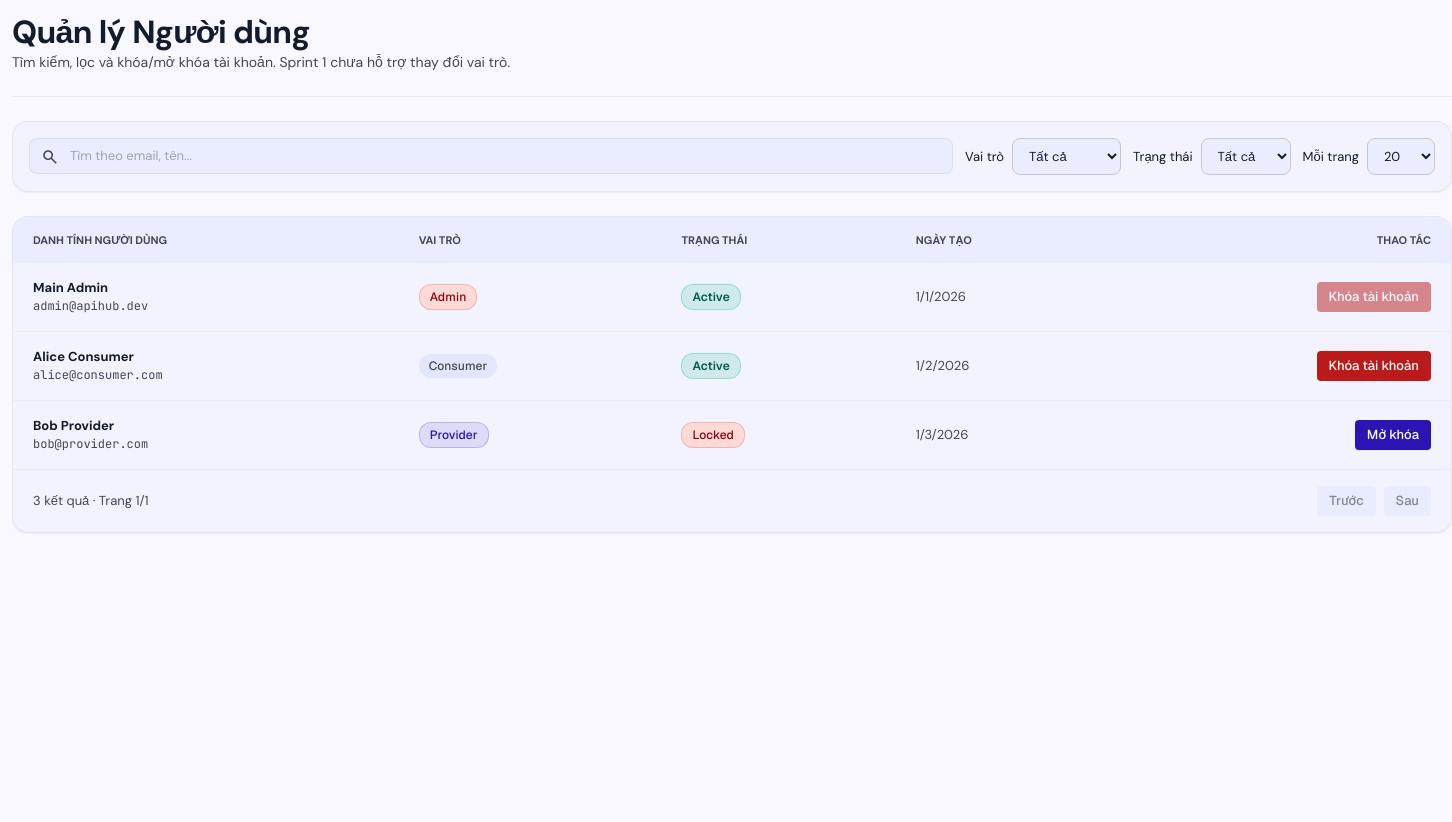
Test: UserManagementPage unit tests › Issue 5: kết quả tìm kiếm cũ không được ghi đè kết quả tìm kiếm mới (controlled promise race)
This screenshot has width=1452, height=822.
expect the text "Alice Consumer" is shown: met, box [33,348,134,365]
// Kích hoạt tìm kiếm 1 (slow)
Type "slow" into the field with placeholder "Tìm theo email, tên...". click: point(491, 156)
box: [29,138,953,174]
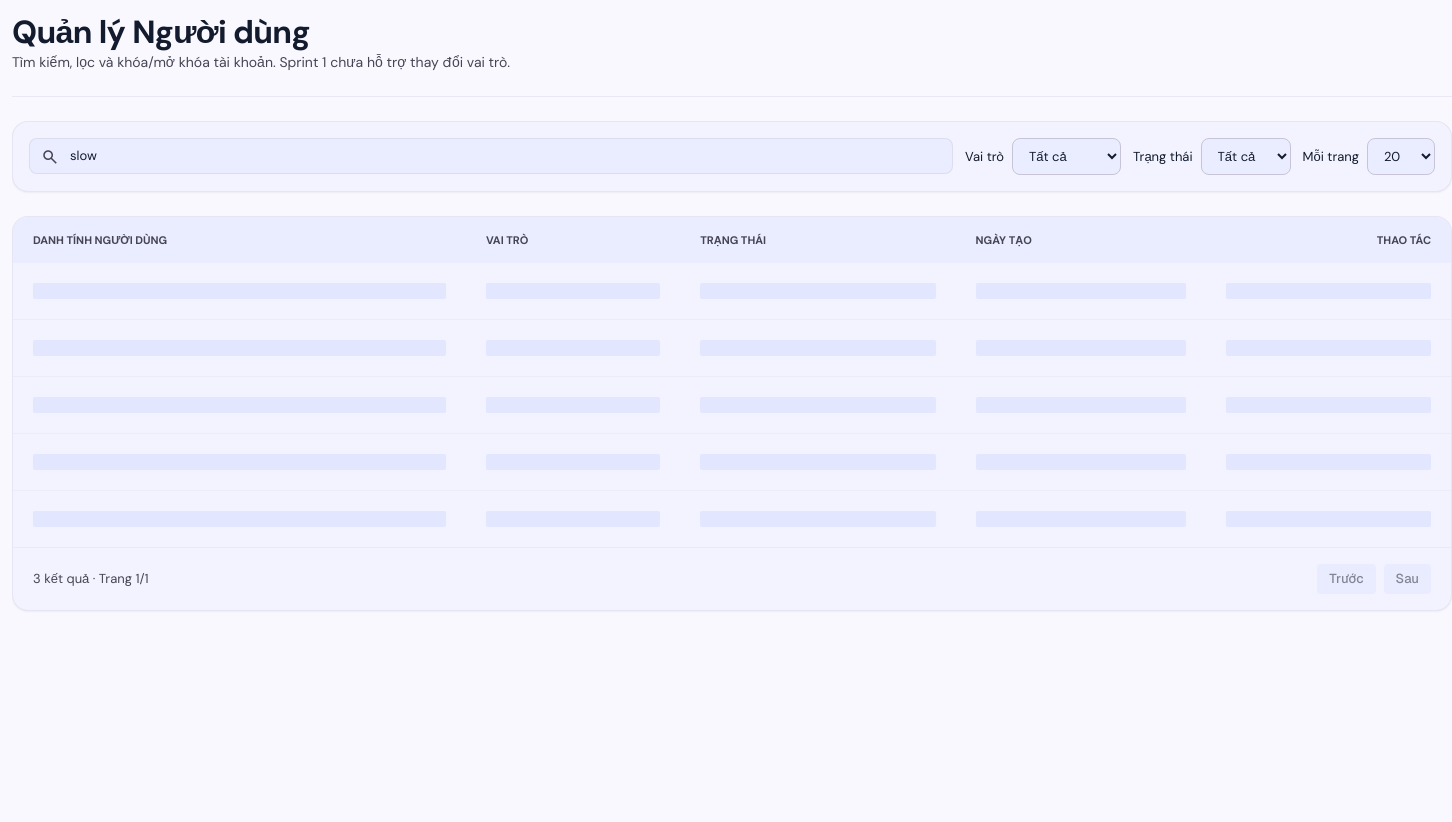
// Kích hoạt tìm kiếm 2 (fast)
Replace the text in the field with placeholder "Tìm theo email, tên..." with "fast". click: point(491, 156)
box: [29,138,953,174]
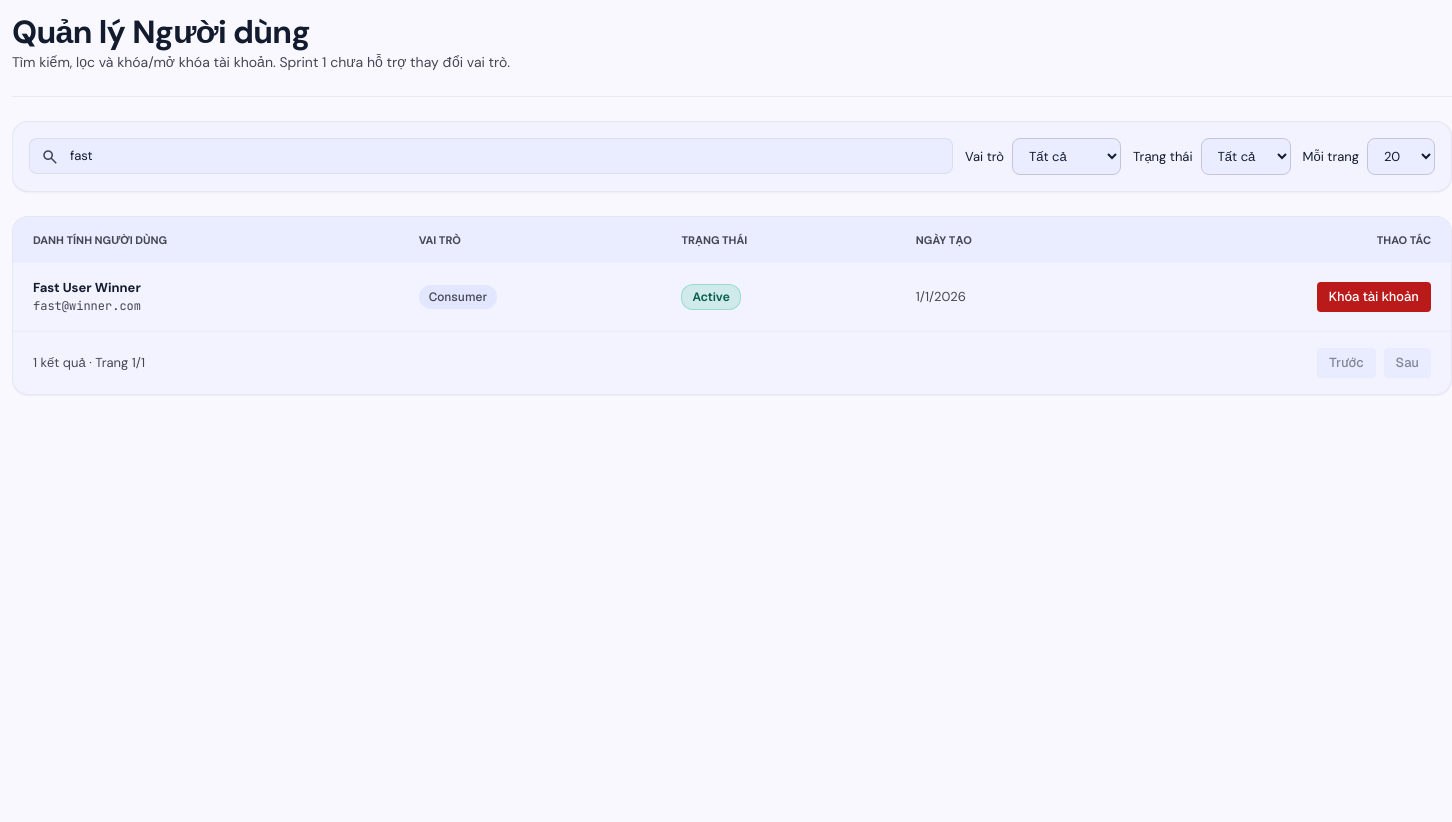
expect the text "Fast User Winner" is shown: met, box [33,279,141,296]
